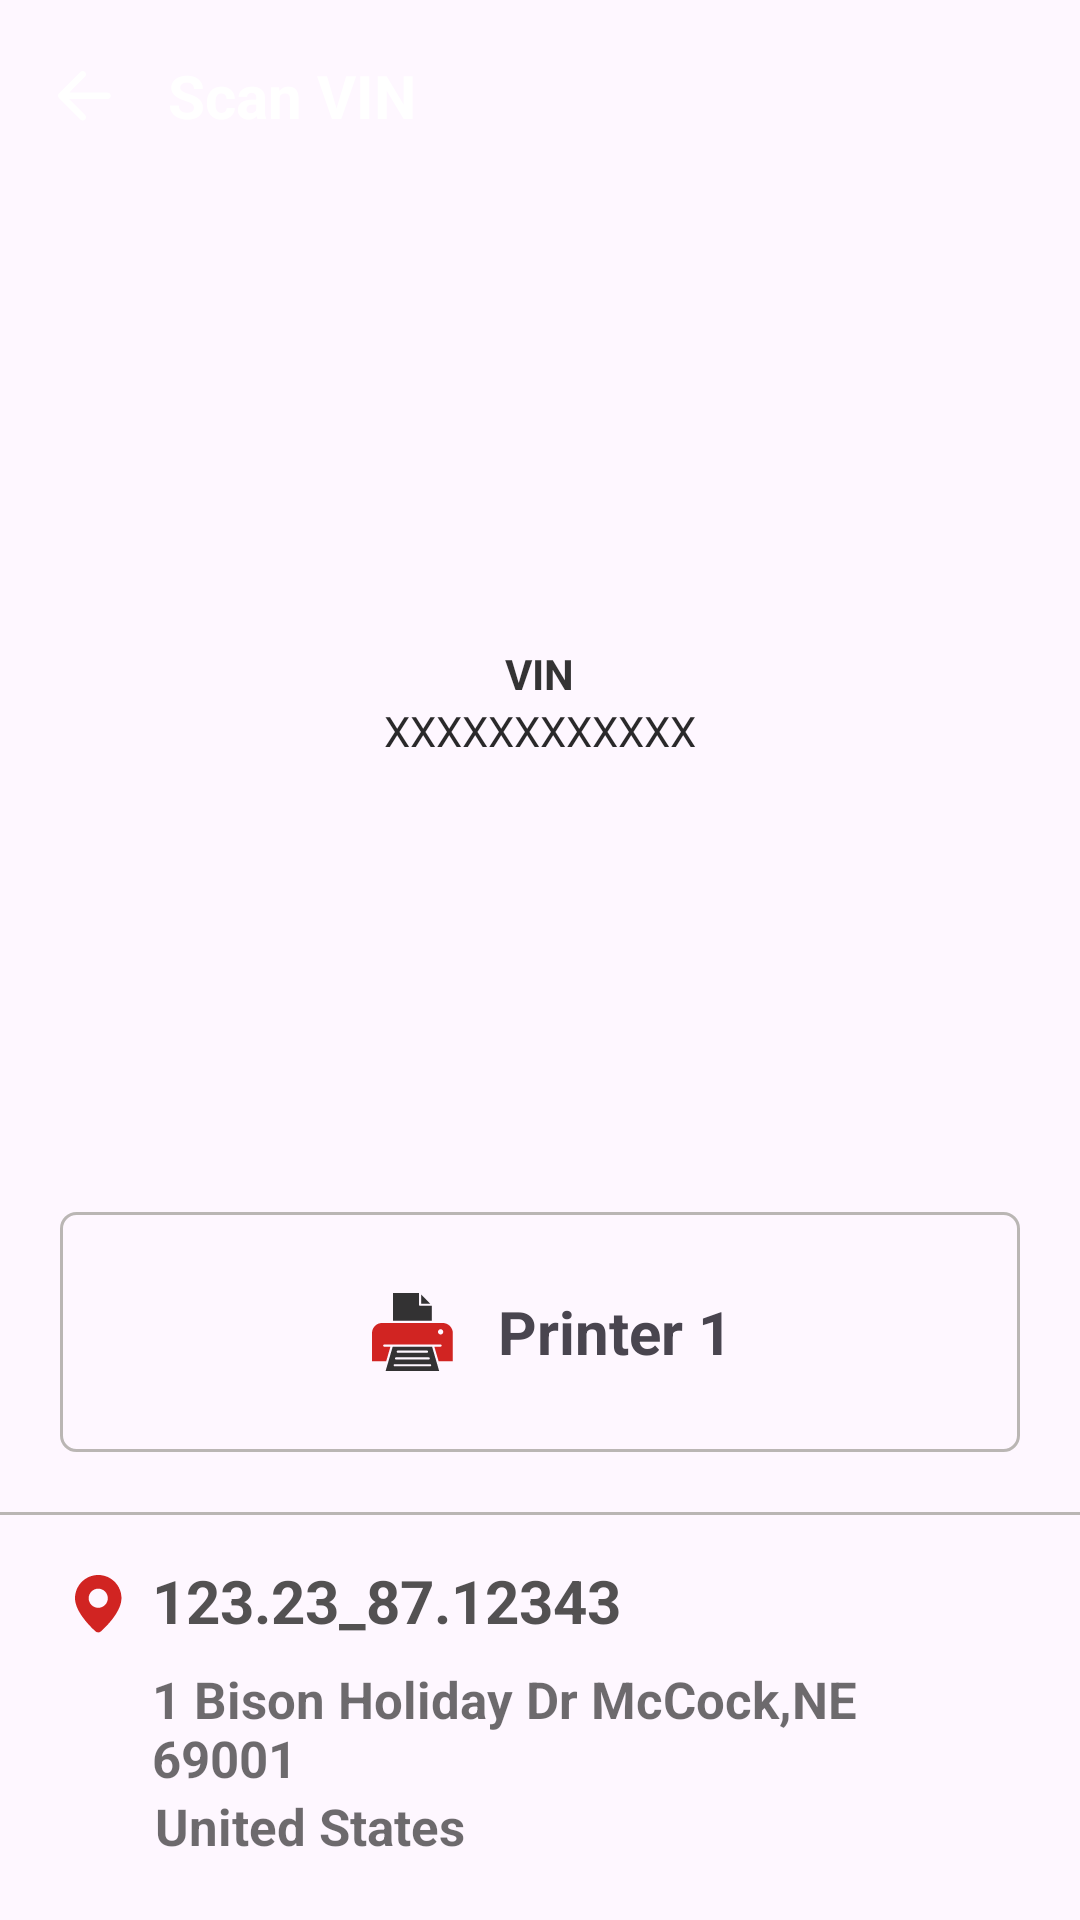

Icon bounding boxes for this 1080px x 1920px phone screenshot, format (x1, y1, x2, y2):
location: (75, 1575, 122, 1633)
